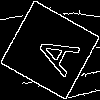A: (25, 25, 82, 78)
